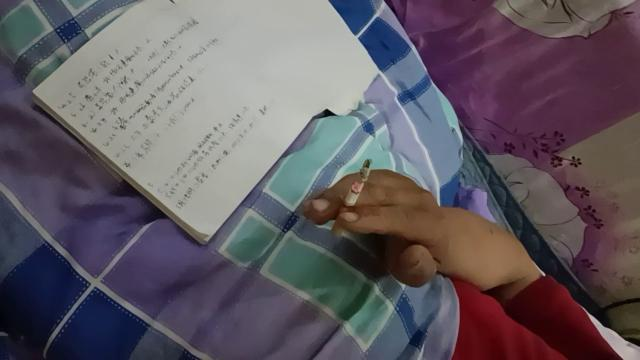Smoking: (331, 158, 374, 238)
